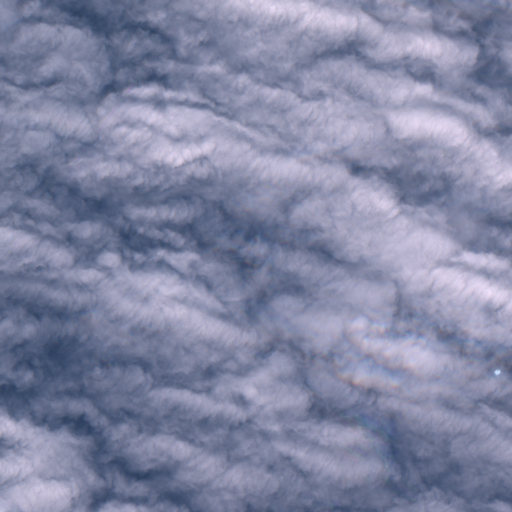Iceberg: (495, 369, 500, 374)
